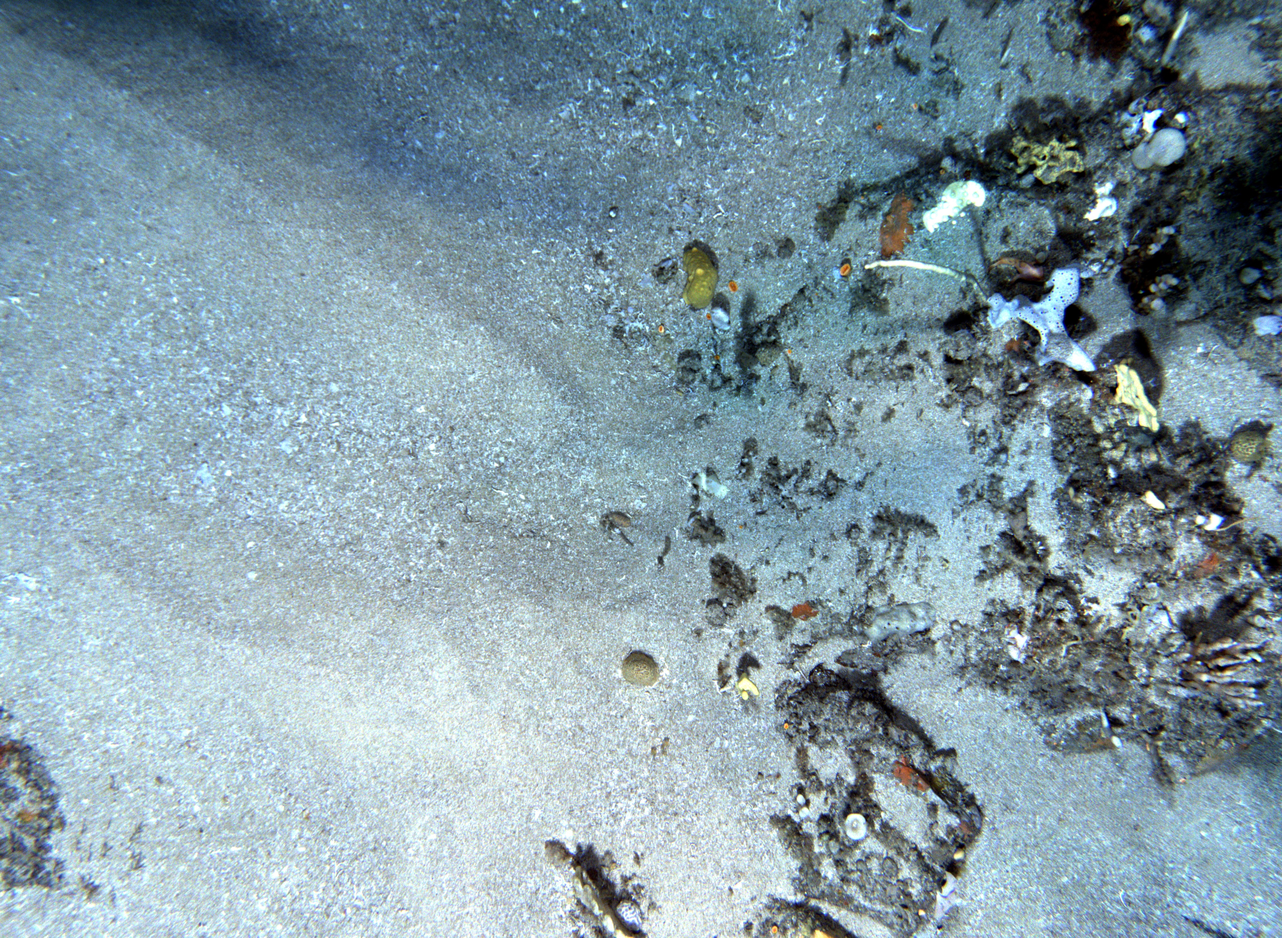Brachionichthyidae: (984, 254, 1045, 283)
